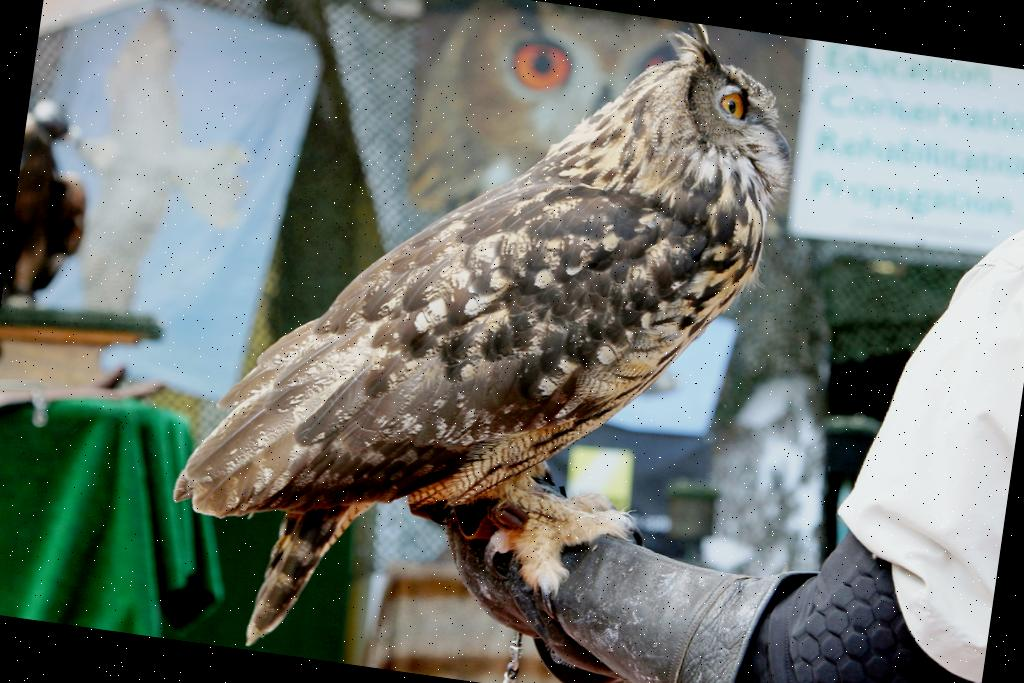Owl: (150, 0, 807, 683)
